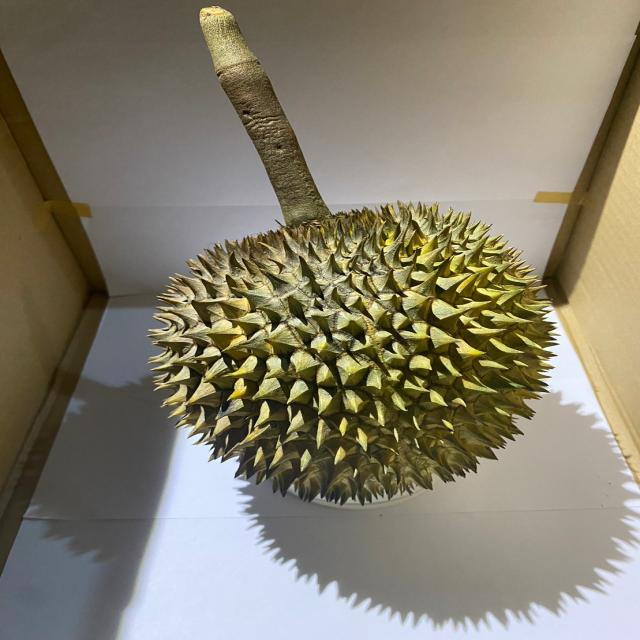immature: (144, 198, 560, 510)
